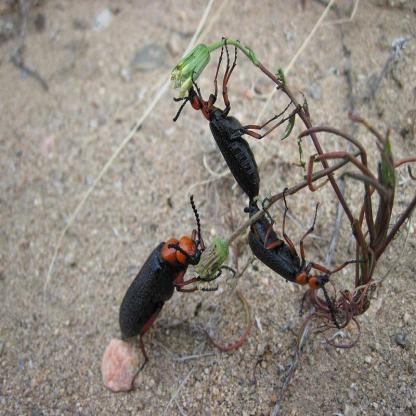beetle: (247, 192, 358, 326), (117, 204, 207, 366), (176, 62, 276, 199)
